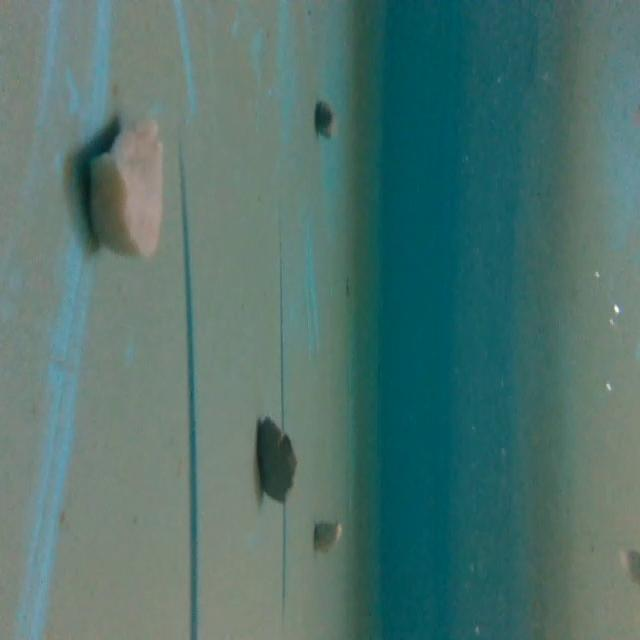rock: (82, 116, 177, 262), (253, 406, 301, 514), (312, 501, 344, 560), (311, 95, 335, 139)
